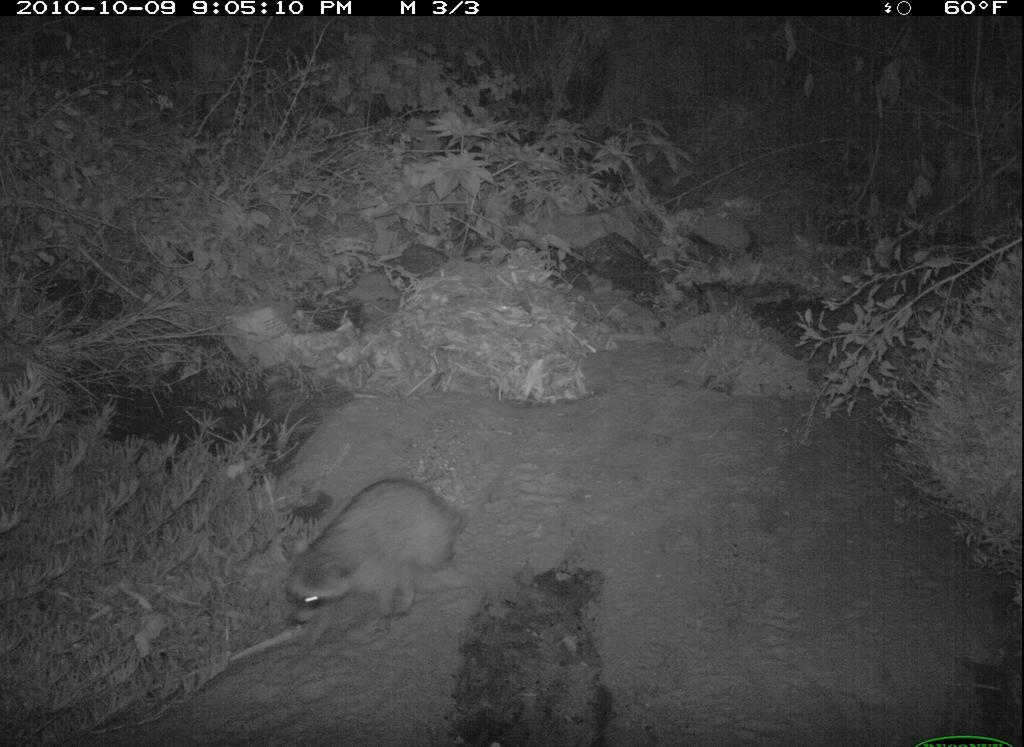raccoon: (280, 475, 474, 646)
